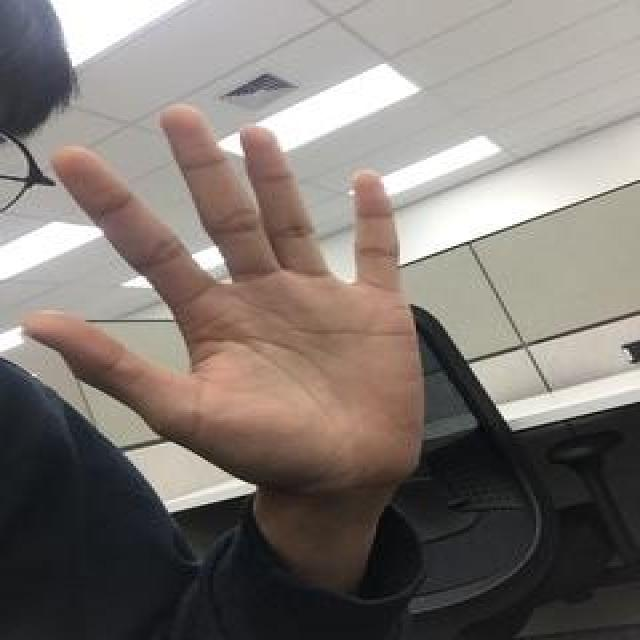hand: (20, 100, 431, 488)
